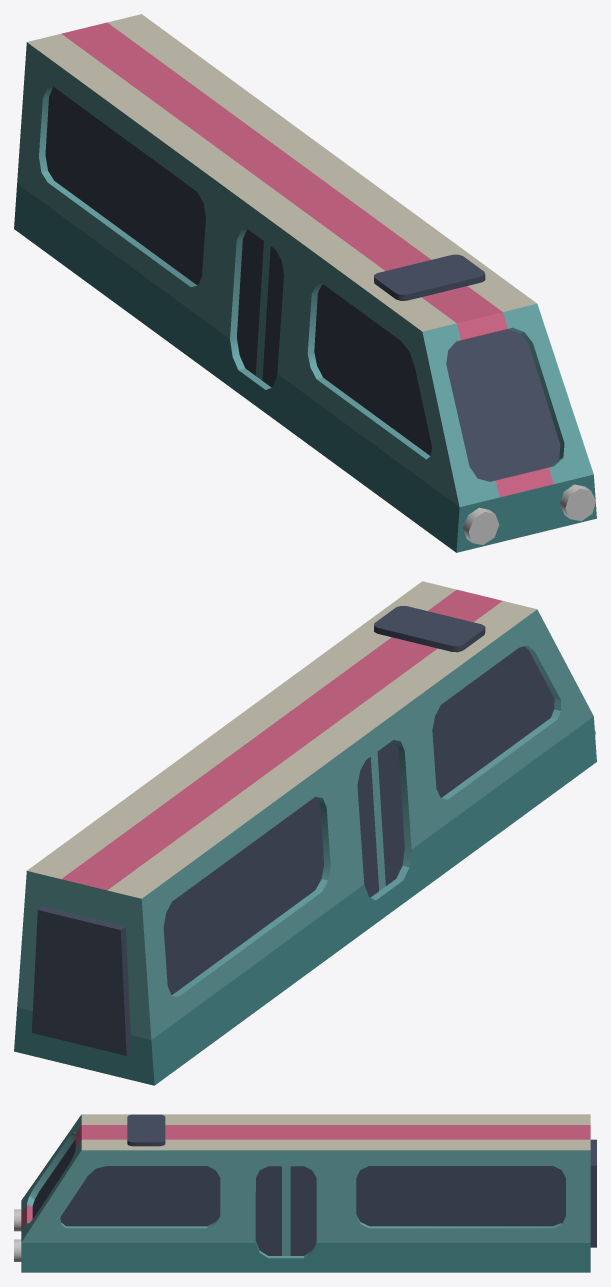
Rendered from train_01_front.fbx.
3 renders of one model, top to bottom at view 1: azimuth 30°, elevation 25°; view 2: azimuth 150°, elevation 25°; view 3: azimuth 270°, elevation 25°, orthographic. The views are drawn at different scales.
Visible parts, largest first — view 1: train_01_front; view 2: train_01_front; view 3: train_01_front.
Part boxes in pixels (x1,y1,x2,y2): train_01_front: (14, 14, 596, 552); train_01_front: (14, 581, 596, 1085); train_01_front: (14, 1114, 596, 1272).
Bounding box in the file's own units: 126 × 163 × 706.
